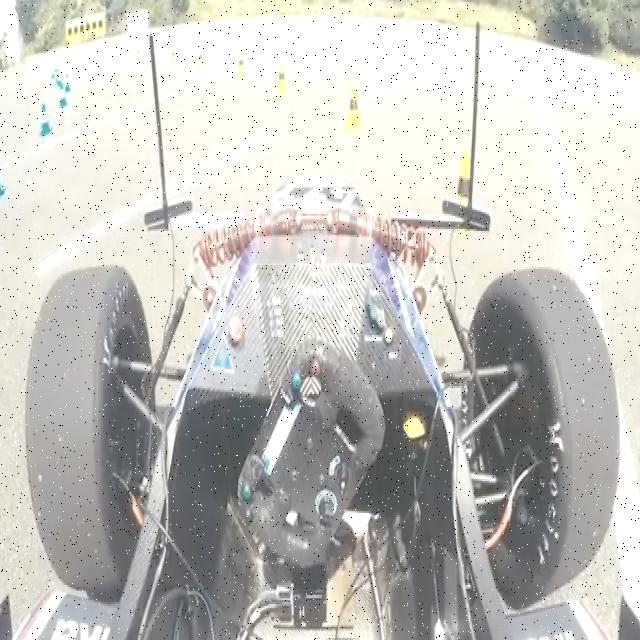blue_cone: (39, 102, 54, 138), (0, 147, 6, 204)
yellow_cone: (449, 152, 478, 236), (344, 82, 365, 132), (274, 62, 290, 96)
